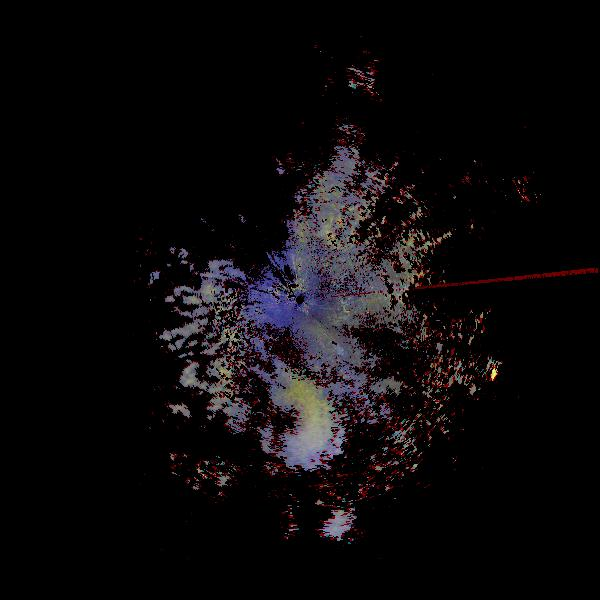roost: (233, 370, 335, 472), (302, 492, 350, 540)
